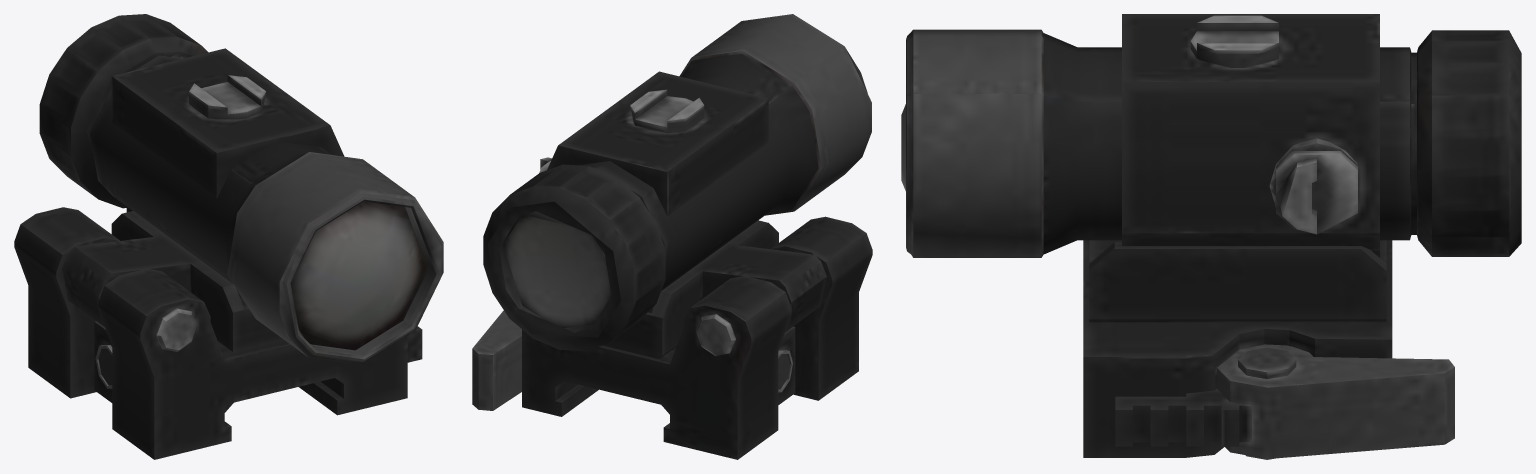
The model's file is smgscope.glb.
The picture shows the model from 3 angles, left to right: view 1: azimuth 30°, elevation 25°; view 2: azimuth 150°, elevation 25°; view 3: azimuth 270°, elevation 25°; orthographic projection. The views are drawn at different scales.
Visible parts, largest first — view 1: Cylinder.006_Material.003_0, Cylinder.003_Material.003_0, Cylinder.012_Material.003_0, Cylinder.011_Material.003_0, Cylinder.010_Material.003_0, Cylinder.004_Material.003_0; view 2: Cylinder.006_Material.003_0, Cylinder.003_Material.003_0, Cylinder.001_Material.003_0, Cylinder.012_Material.003_0, Cylinder.011_Material.003_0, Cylinder.010_Material.003_0; view 3: Cylinder.006_Material.003_0, Cylinder.001_Material.003_0, Cylinder.003_Material.003_0, Cylinder.004_Material.003_0, Cylinder.005_Material.003_0.
Boxes of the visible parts, x1,y1,x2,y2 form: Cylinder.006_Material.003_0: [39, 14, 443, 364]; Cylinder.003_Material.003_0: [14, 207, 407, 459]; Cylinder.012_Material.003_0: [156, 308, 197, 351]; Cylinder.011_Material.003_0: [94, 321, 112, 402]; Cylinder.010_Material.003_0: [95, 345, 112, 388]; Cylinder.004_Material.003_0: [407, 326, 422, 362]; Cylinder.006_Material.003_0: [483, 14, 871, 358]; Cylinder.003_Material.003_0: [522, 216, 872, 459]; Cylinder.001_Material.003_0: [472, 310, 521, 410]; Cylinder.012_Material.003_0: [695, 314, 736, 355]; Cylinder.011_Material.003_0: [778, 326, 795, 404]; Cylinder.010_Material.003_0: [778, 350, 793, 392]; Cylinder.006_Material.003_0: [901, 14, 1521, 322]; Cylinder.001_Material.003_0: [1217, 344, 1454, 458]; Cylinder.003_Material.003_0: [1083, 240, 1392, 457]; Cylinder.004_Material.003_0: [1115, 389, 1251, 446]; Cylinder.005_Material.003_0: [1238, 347, 1296, 459].
Size of the model in its own units: 0.4717 by 0.4419 by 0.7.
Materials: 1 (1 with a texture image).
